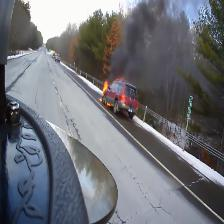fire: (95, 73, 129, 119)
smoke: (111, 2, 224, 92)
